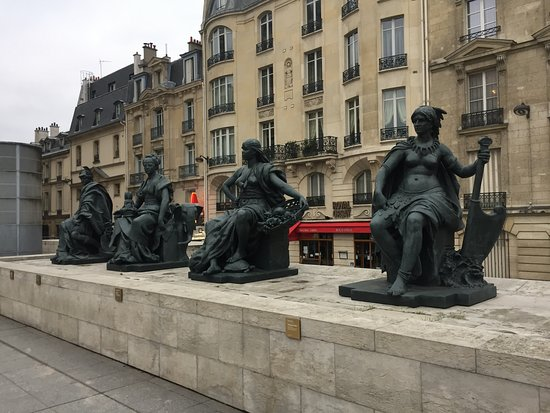person-like: (365, 102, 495, 298), (199, 135, 310, 279), (106, 152, 176, 272), (50, 165, 115, 263)
